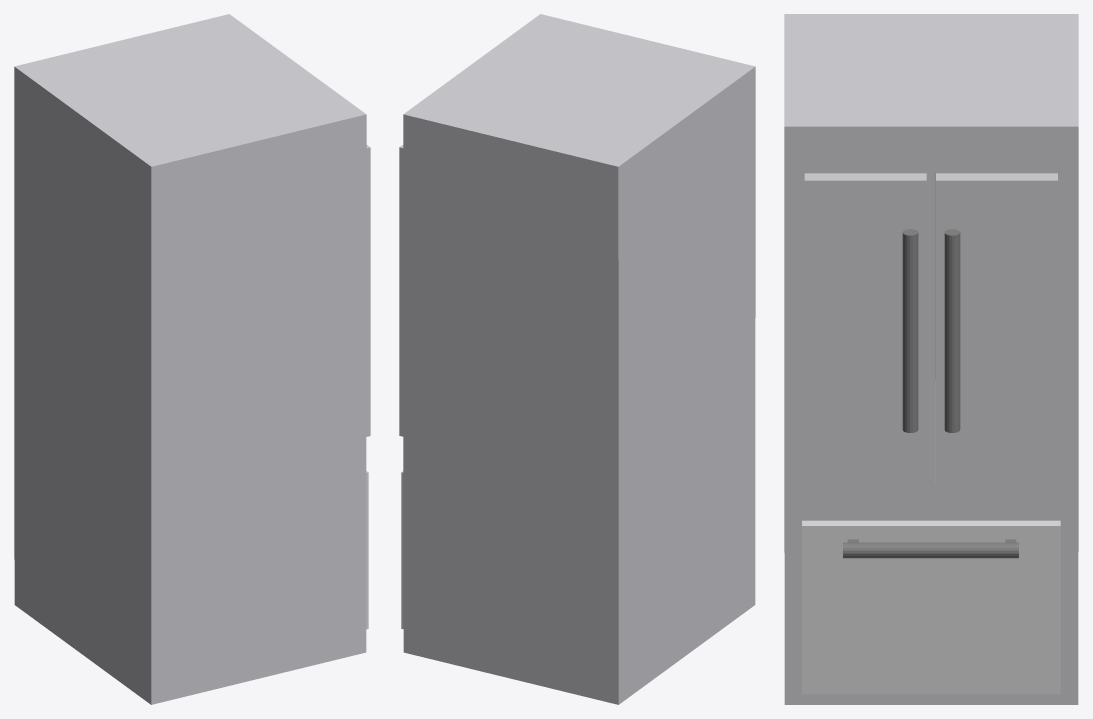
The model's file is fridge textured.fbx.
3 views of the same model, side by side, from view 1: azimuth 30°, elevation 25°; view 2: azimuth 150°, elevation 25°; view 3: azimuth 270°, elevation 25° (orthographic). The views are drawn at different scales.
Parts seen in each view (by area): view 1: Fridge v left, Fridge back, Fridge h top, Fridge h middle, Fridge h bottom, Door 1.003; view 2: Fridge v right, Fridge back, Fridge h top, Fridge h middle, Fridge h bottom, Door 2.003; view 3: Fridge h top, Lower Door.001, Door 1.003, Door 2.003, Fridge v right, Fridge h middle, Fridge v left, Fridge h bottom, Left Handle.001, Right Handle.001, Fridge v middle, Lower Handle.001.
Boxes of the visible parts, <box> form: Fridge v left: <box>151,158,366,689</box>; Fridge back: <box>14,110,151,689</box>; Fridge h top: <box>14,14,366,209</box>; Fridge h middle: <box>14,398,366,533</box>; Fridge h bottom: <box>14,590,366,704</box>; Door 1.003: <box>366,145,370,436</box>; Fridge v right: <box>403,158,618,689</box>; Fridge back: <box>618,110,755,689</box>; Fridge h top: <box>403,14,755,210</box>; Fridge h middle: <box>403,399,755,533</box>; Fridge h bottom: <box>403,590,755,704</box>; Door 2.003: <box>399,145,403,436</box>; Fridge h top: <box>784,14,1078,173</box>; Lower Door.001: <box>802,520,1060,694</box>; Door 1.003: <box>804,173,926,490</box>; Door 2.003: <box>936,173,1057,490</box>; Fridge v right: <box>1058,173,1078,688</box>; Fridge h middle: <box>784,380,1078,520</box>; Fridge v left: <box>784,173,804,688</box>; Fridge h bottom: <box>784,688,1078,704</box>; Left Handle.001: <box>902,229,918,432</box>; Right Handle.001: <box>944,229,960,432</box>; Fridge v middle: <box>926,173,935,483</box>; Lower Handle.001: <box>843,539,1018,558</box>.
Size of the model in its own units: 1317 by 2776 by 1282.
